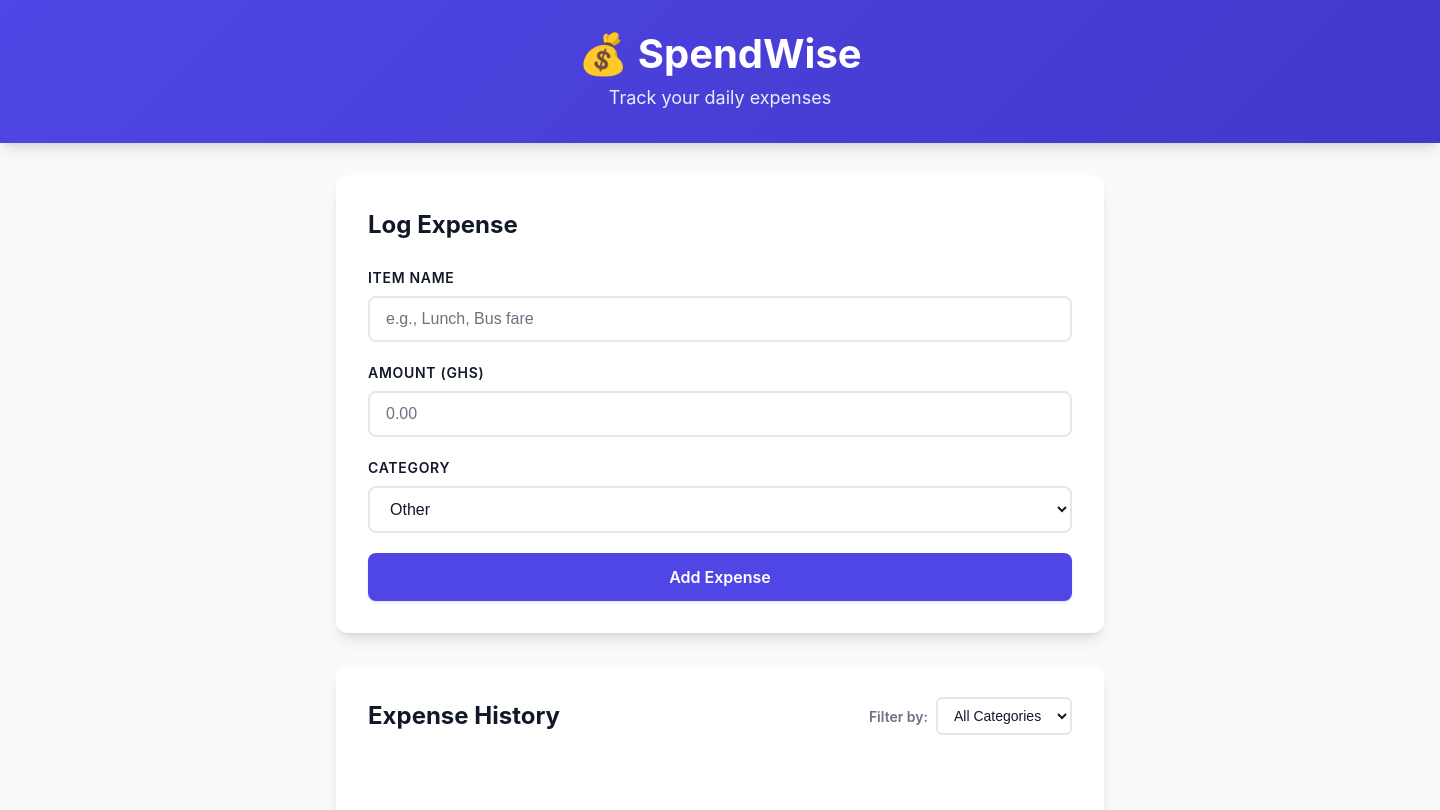
Scenario: User Story 1: Log Expense - Frontend UI › Acceptance Criteria #3: Validation prevents empty names and negative costs › should show error for empty item name
The width and height of the screenshot is (1440, 810).
# Only fill amount, leave name empty
Type "10.00" into the number field labelled "Amount (GHS)" at (720, 414), box left=368, top=391, right=1072, bottom=437
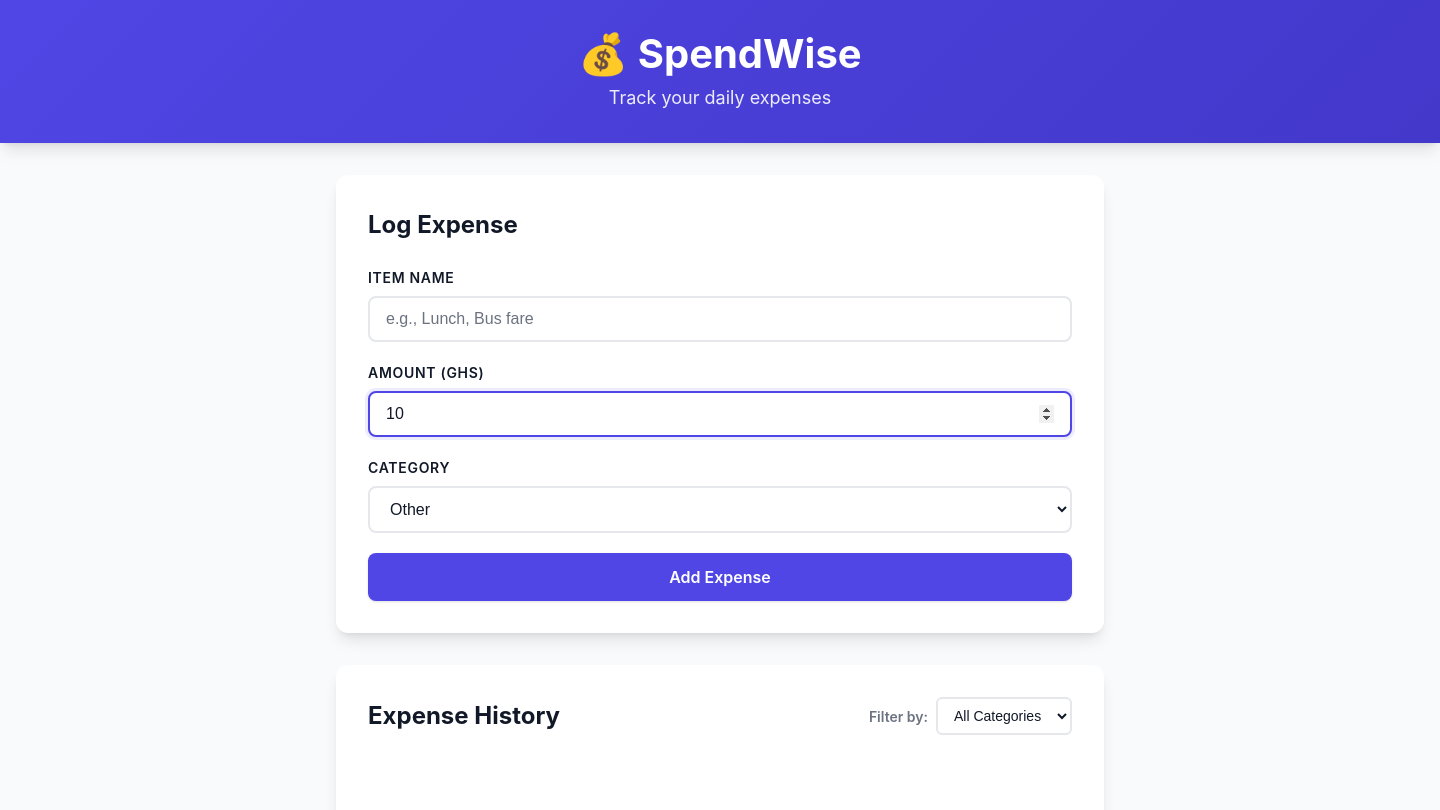
Click the button "Add Expense" at (720, 577), box left=368, top=553, right=1072, bottom=601
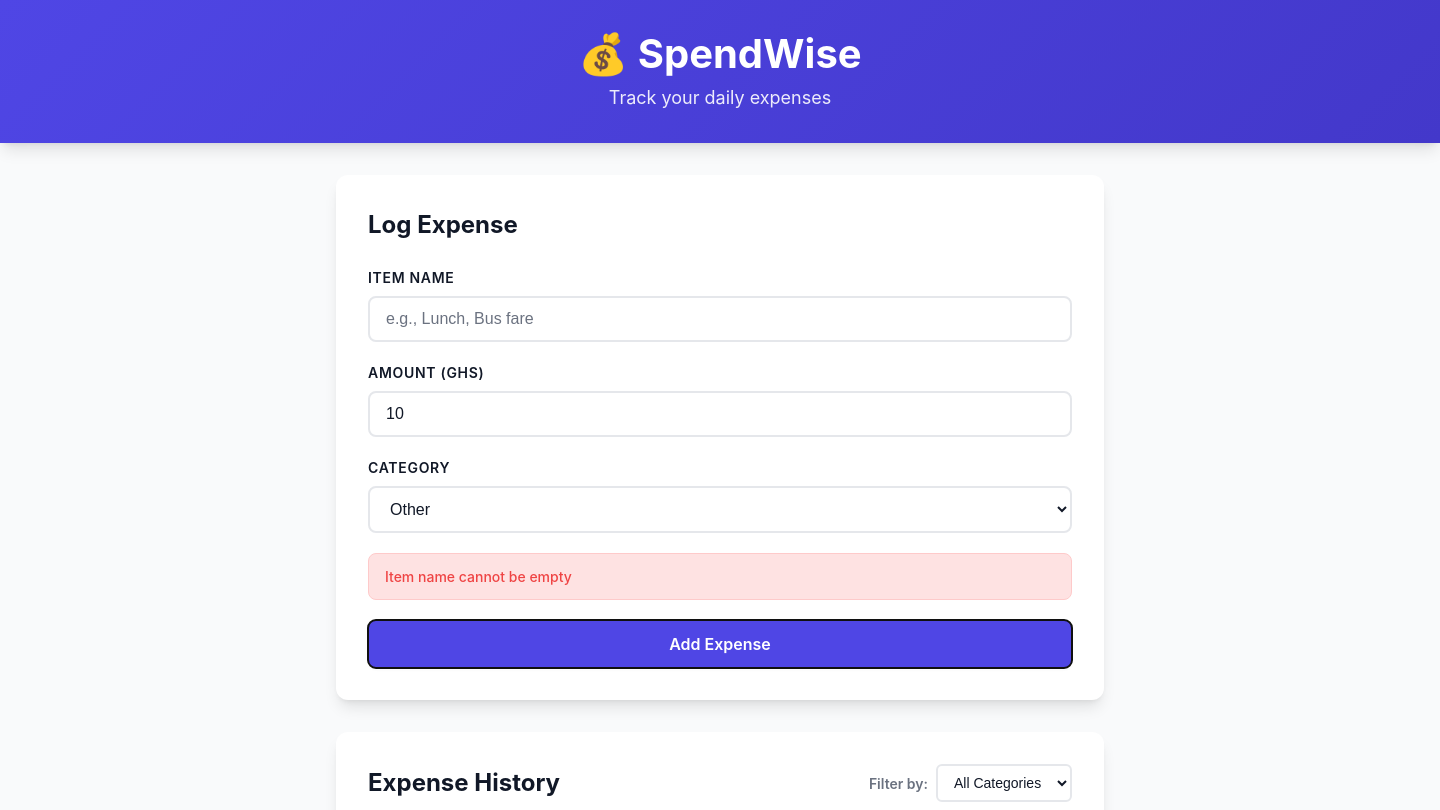
Now the text "Item name cannot be empty" is shown, box left=368, top=553, right=1072, bottom=600
